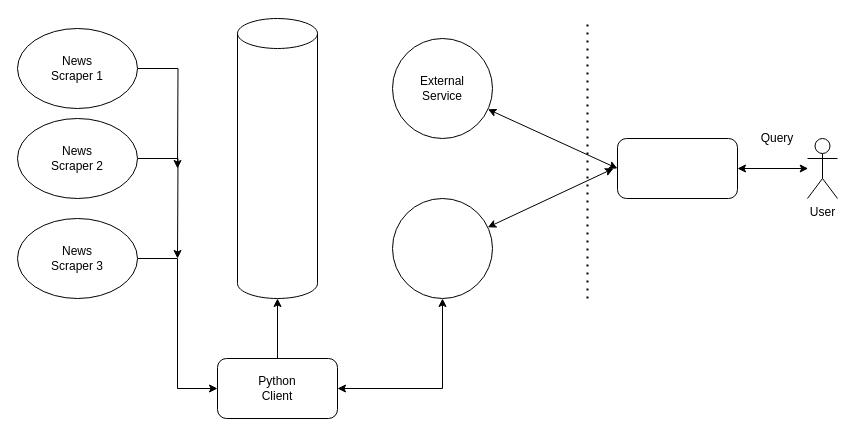
Image size: 855x436. Some labels were removed from this diagram. The centre of each missing label's shape, as x and y in pixels:
"Elastic Search" belongs at point (277, 158).
"REST API" belongs at point (442, 248).
"User Interface" belongs at point (677, 168).
